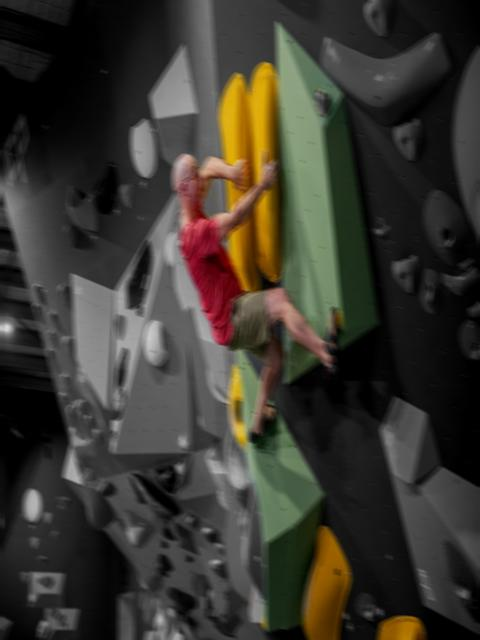crimp: (441, 266, 479, 296), (372, 224, 389, 239), (457, 258, 474, 272), (179, 434, 189, 449), (109, 429, 116, 441), (136, 304, 142, 316)
downhold: (393, 117, 422, 161), (392, 254, 419, 293), (364, 0, 392, 37)
jib: (335, 310, 343, 329), (261, 616, 267, 630)
jug: (227, 363, 247, 452), (143, 319, 167, 366), (313, 88, 331, 116), (209, 558, 228, 578), (201, 525, 219, 544), (185, 515, 199, 529)
ledge: (319, 32, 451, 125), (125, 240, 152, 309), (130, 117, 157, 178), (67, 184, 97, 233), (92, 161, 119, 214), (111, 386, 126, 419)
pocket: (422, 190, 468, 266), (442, 540, 480, 621), (420, 268, 442, 314), (458, 319, 480, 362), (355, 592, 377, 622)
sidepull: (248, 62, 282, 282), (301, 525, 351, 640), (216, 73, 257, 211), (241, 480, 266, 600), (227, 209, 259, 291), (223, 428, 251, 511), (114, 347, 128, 392)
volume: (276, 22, 378, 348), (110, 193, 191, 456), (243, 410, 324, 631), (390, 466, 480, 634), (170, 230, 220, 439), (70, 274, 115, 414), (149, 44, 197, 165), (185, 271, 229, 395), (380, 396, 441, 484), (283, 325, 320, 383), (236, 351, 259, 428)
